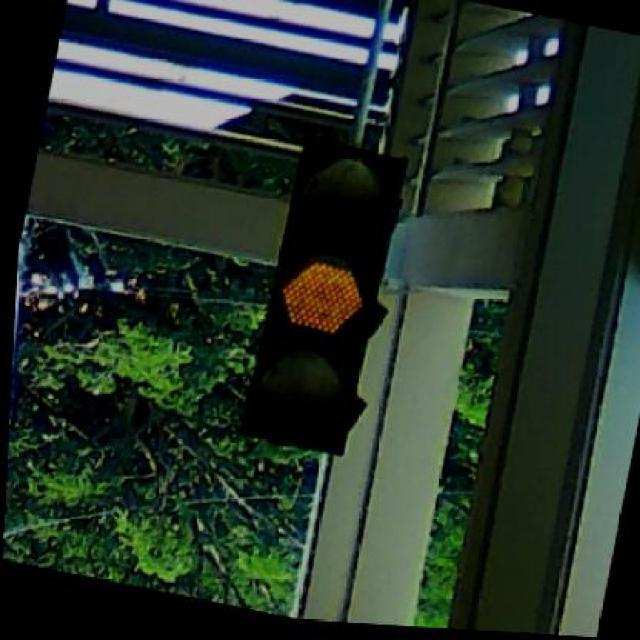yellow_light: (233, 140, 408, 465)
